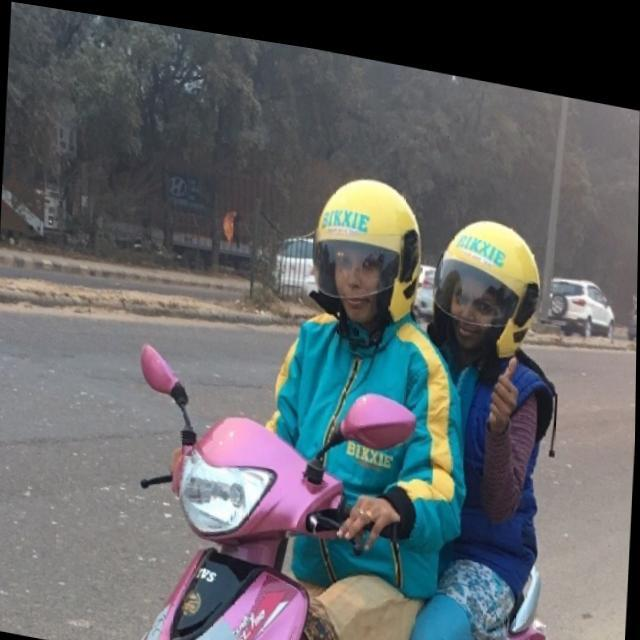Helmet: (302, 164, 420, 343), (427, 206, 546, 365)
